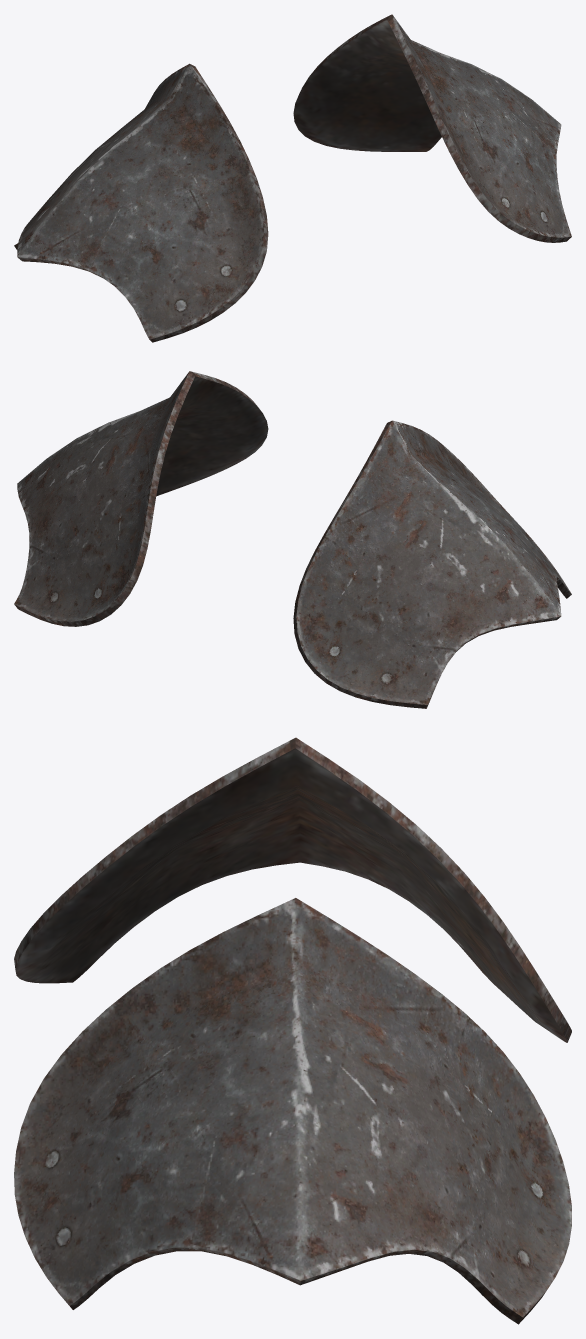
Rendered from sk_gb_uruk_pauldron_med_b.fbx.
3 renders of one model, top to bottom at view 1: azimuth 30°, elevation 25°; view 2: azimuth 150°, elevation 25°; view 3: azimuth 270°, elevation 25°, orthographic. The views are drawn at different scales.
Parts seen in each view (by area): view 1: sk_gb_uruk_pauldron_med_b; view 2: sk_gb_uruk_pauldron_med_b; view 3: sk_gb_uruk_pauldron_med_b.
Boxes of the visible parts, <box> form: sk_gb_uruk_pauldron_med_b: <box>14,14,571,342</box>; sk_gb_uruk_pauldron_med_b: <box>14,371,571,708</box>; sk_gb_uruk_pauldron_med_b: <box>14,737,571,1324</box>.
Bounding box in the file's own units: 0.621 × 0.3402 × 0.2323.
1 material, 1 textured.
